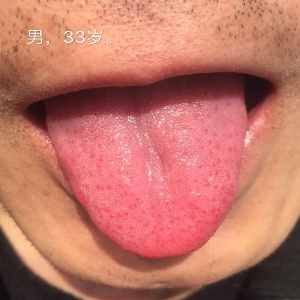st: (37, 111, 257, 256)
